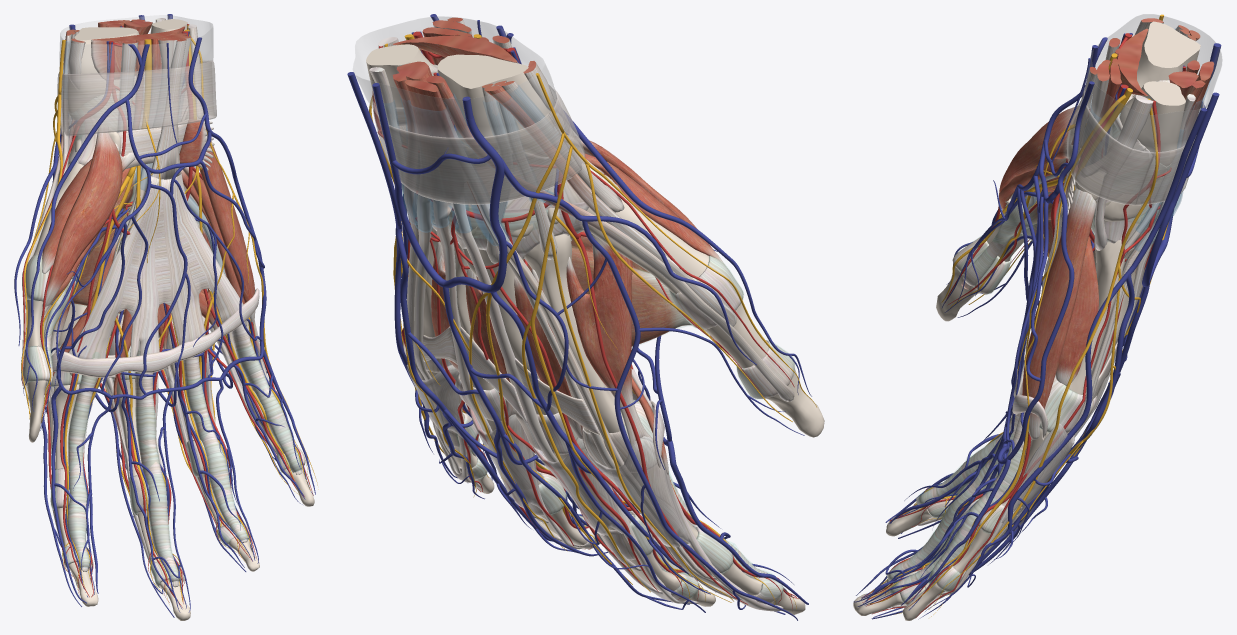
File: hand-wrist.glb
3 views of the same model, side by side, from view 1: azimuth 30°, elevation 25°; view 2: azimuth 150°, elevation 25°; view 3: azimuth 270°, elevation 25° (orthographic). The views are drawn at different scales.
Parts seen in each view (by area): view 1: Sesamoid bones, Aponeurosis palmaris, 1st dorsal interosseus of hand, Fibrous sheath of digits of hand, Extensor retinaculum of wrist, 1st lumbrical of hand, Synovial sheaths of fingers, Radius, Extensor hood of 2nd finger, Articular capsule of radiocarpal joint, Distal phalanx of 1st finger, Proximal phalanx of 2d finger (+7 smaller); view 2: 1st dorsal interosseus of hand, Sesamoid bones, Aponeurosis palmaris, Synovial sheaths of fingers, Extensor retinaculum of wrist, Extensor hood of 2nd finger, Articular capsule of radiocarpal joint, Radius, 2nd metacarpal bone, 1st metacarpal bone, 1st lumbrical of hand, 3rd metacarpal bone (+8 smaller); view 3: Sesamoid bones, Aponeurosis palmaris, 1st dorsal interosseus of hand, 1st lumbrical of hand, Synovial sheaths of fingers, Extensor retinaculum of wrist, Fibrous sheath of digits of hand, Articular capsule of radiocarpal joint, Ulna, Radius, 5th metacarpal bone, Extensor hood of 2nd finger (+6 smaller).
Part boxes in pixels (box(x1,y1,x2,y2)): Sesamoid bones: box(14, 14, 318, 617); Aponeurosis palmaris: box(22, 18, 305, 588); 1st dorsal interosseus of hand: box(21, 19, 301, 587); Fibrous sheath of digits of hand: box(67, 322, 301, 581); Extensor retinaculum of wrist: box(57, 60, 216, 136); 1st lumbrical of hand: box(41, 130, 255, 419); Synovial sheaths of fingers: box(46, 15, 300, 582); Radius: box(68, 27, 144, 112); Extensor hood of 2nd finger: box(46, 320, 267, 469); Articular capsule of radiocarpal joint: box(68, 84, 187, 165); Distal phalanx of 1st finger: box(27, 380, 46, 442); Proximal phalanx of 2d finger: box(51, 384, 96, 469); 1st dorsal interosseus of hand: box(392, 17, 794, 599); Sesamoid bones: box(347, 14, 816, 620); Aponeurosis palmaris: box(369, 37, 794, 611); Synovial sheaths of fingers: box(353, 16, 556, 245); Extensor retinaculum of wrist: box(373, 84, 585, 204); Extensor hood of 2nd finger: box(403, 341, 691, 547); Articular capsule of radiocarpal joint: box(398, 65, 603, 259); Radius: box(437, 54, 553, 156); 2nd metacarpal bone: box(524, 234, 624, 432); 1st metacarpal bone: box(582, 174, 709, 293); 1st lumbrical of hand: box(455, 152, 725, 474); 3rd metacarpal bone: box(463, 249, 558, 414); Sesamoid bones: box(853, 14, 1221, 619); Aponeurosis palmaris: box(892, 94, 1195, 609); 1st dorsal interosseus of hand: box(886, 18, 1214, 594); 1st lumbrical of hand: box(999, 128, 1098, 439); Synovial sheaths of fingers: box(891, 14, 1222, 592); Extensor retinaculum of wrist: box(1066, 87, 1204, 205); Fibrous sheath of digits of hand: box(887, 412, 1031, 595); Articular capsule of radiocarpal joint: box(1091, 79, 1169, 251); Ulna: box(1119, 81, 1185, 165); Radius: box(1132, 21, 1200, 95); 5th metacarpal bone: box(1069, 234, 1125, 394); Extensor hood of 2nd finger: box(1001, 424, 1074, 541).
Bounding box in the file's own units: 0.1097 × 0.1855 × 0.1032.
Materials: 40 (11 with a texture image).
